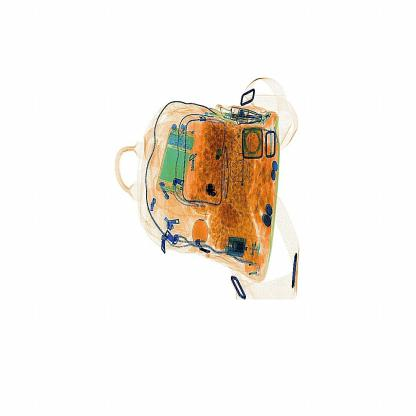scissors: (203, 182, 218, 199)
